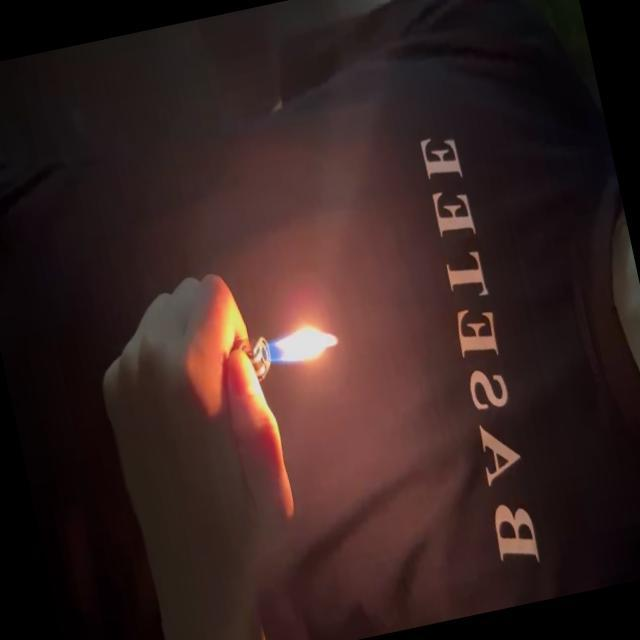Fire: (262, 316, 344, 374)
